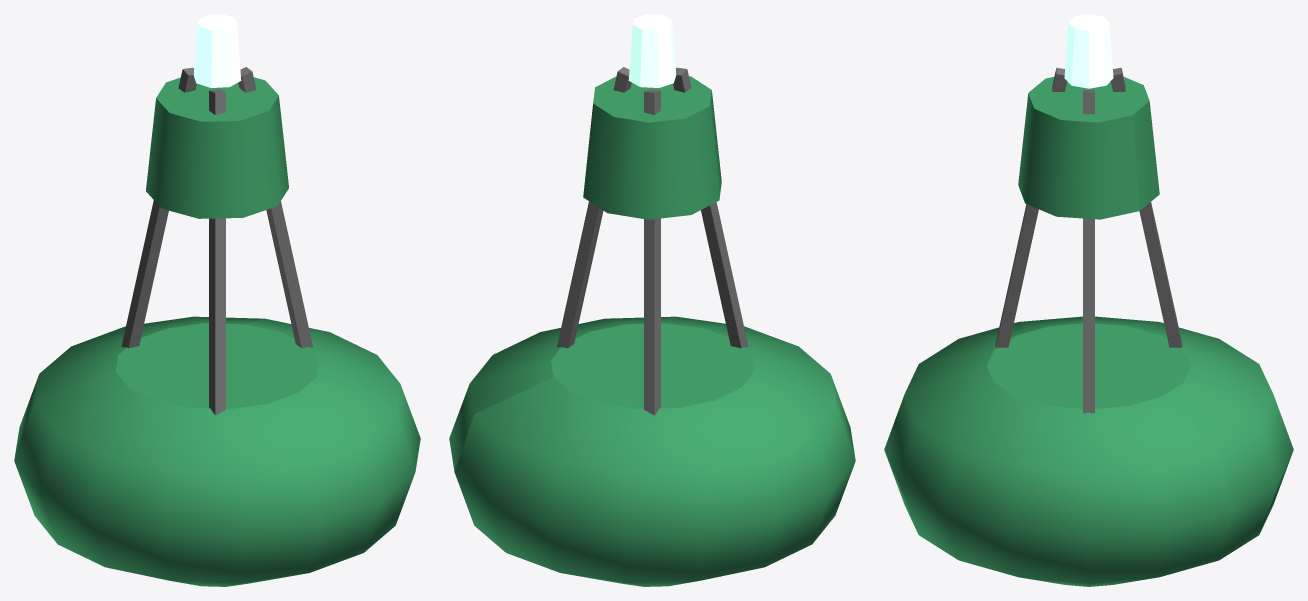
File: buoy-green.glb
3 views of the same model, side by side, from view 1: azimuth 30°, elevation 25°; view 2: azimuth 150°, elevation 25°; view 3: azimuth 270°, elevation 25° (orthographic).
Visible parts, largest first — view 1: buoy-green; view 2: buoy-green; view 3: buoy-green.
Part boxes in pixels (bbox=[...]): buoy-green: bbox=[14, 14, 420, 586]; buoy-green: bbox=[449, 14, 855, 586]; buoy-green: bbox=[884, 14, 1293, 586].
Bounding box in the file's own units: 2 × 2.9 × 2.
